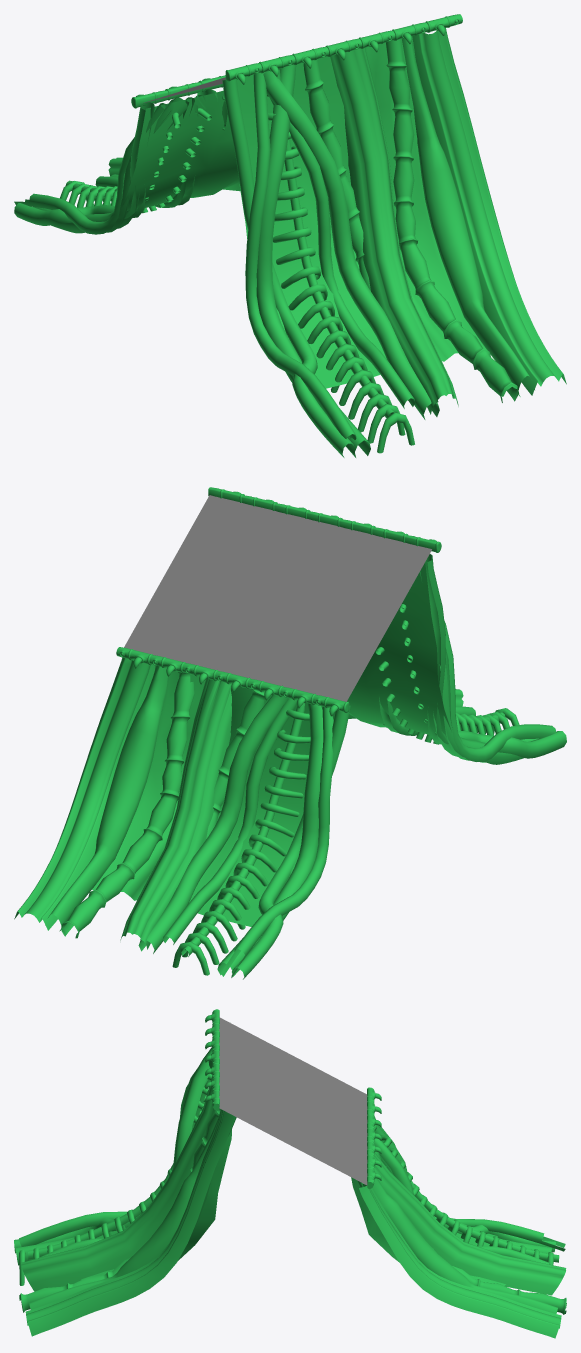
The model's file is Track_alien_13.fbx.
The picture shows the model from 3 angles, top to bottom: view 1: azimuth 30°, elevation 25°; view 2: azimuth 150°, elevation 25°; view 3: azimuth 270°, elevation 25°; orthographic projection. The views are drawn at different scales.
Visible parts, largest first — view 1: Object004; view 2: Object004, Road_011; view 3: Object004, Road_011.
Part boxes in pixels (<box>): Object004: <box>14,14,566,457</box>; Object004: <box>14,487,566,979</box>; Road_011: <box>124,495,431,701</box>; Object004: <box>14,1009,566,1338</box>; Road_011: <box>219,1017,367,1185</box>.
Size of what is drawn, in the model's own units: 3340 by 7697 by 3828.
